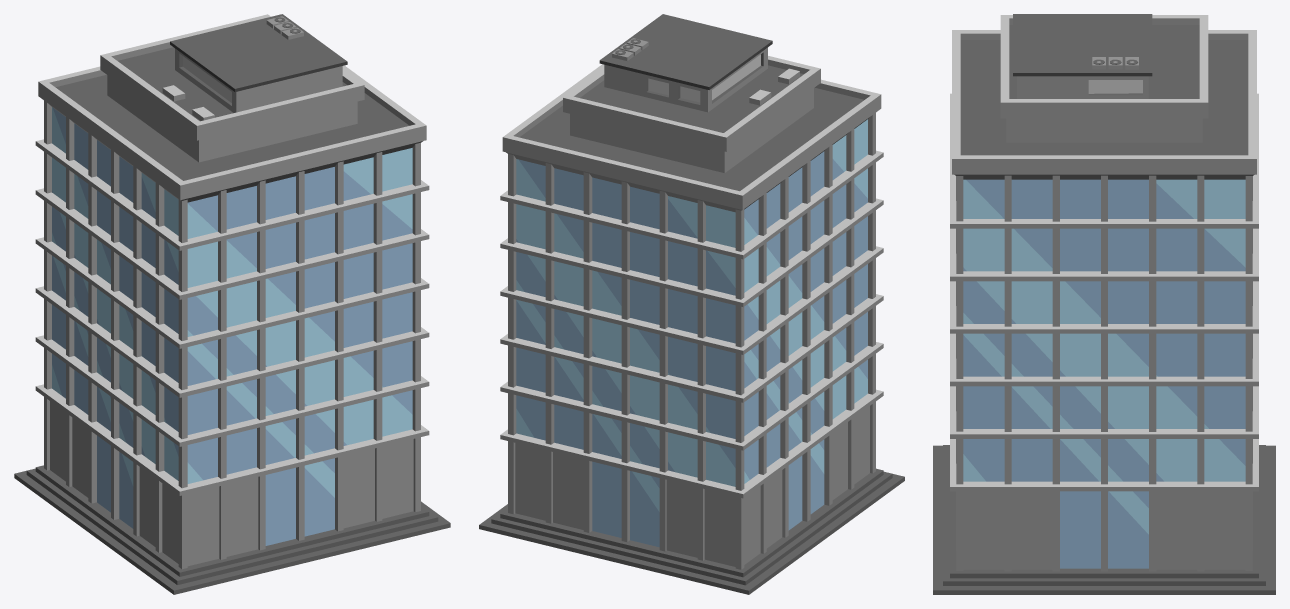
The model's file is building2.glb.
3 renders of one model, left to right at view 1: azimuth 30°, elevation 25°; view 2: azimuth 150°, elevation 25°; view 3: azimuth 270°, elevation 25°, orthographic. The views are drawn at different scales.
Parts seen in each view (by area): view 1: huitugou_2443_2798; view 2: huitugou_2443_2798; view 3: huitugou_2443_2798.
Boxes of the visible parts, x1,y1,x2,y2 form: huitugou_2443_2798: (14,14,450,594); huitugou_2443_2798: (479,14,904,594); huitugou_2443_2798: (933,14,1275,594).
Size of the model in its own units: 5.11 by 8.1 by 5.11.
1 material, 1 textured.
